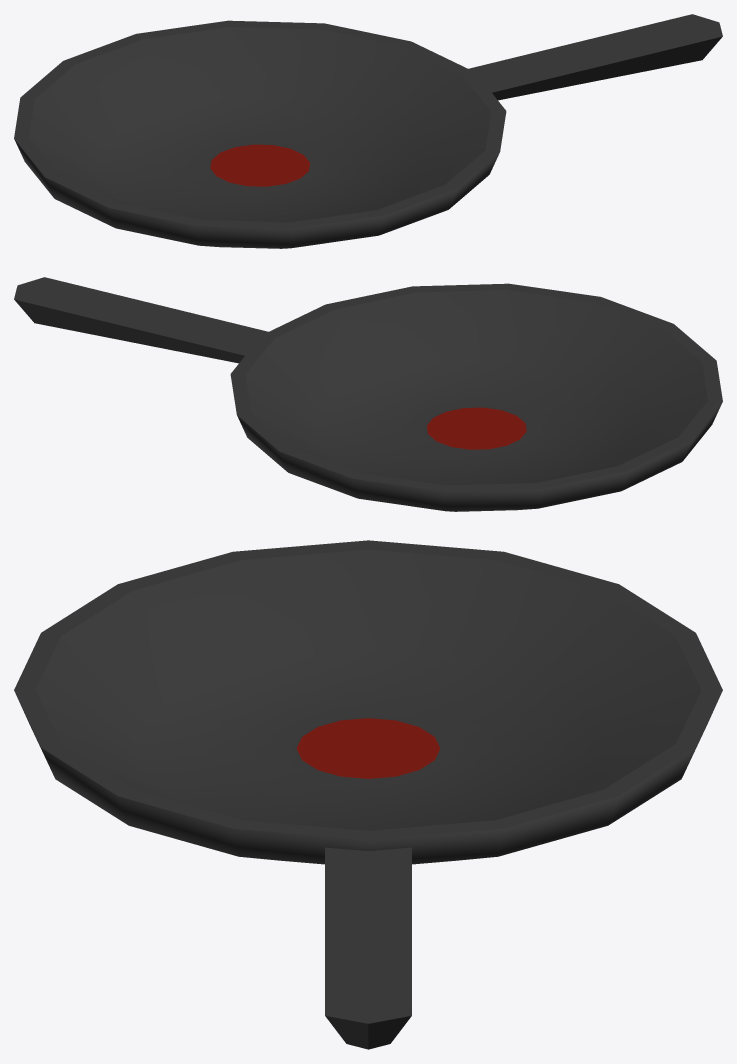
File: pan.glb
3 renders of one model, top to bottom at view 1: azimuth 30°, elevation 25°; view 2: azimuth 150°, elevation 25°; view 3: azimuth 270°, elevation 25°, orthographic. The views are drawn at different scales.
Visible parts, largest first — view 1: Simple Pan; view 2: Simple Pan; view 3: Simple Pan.
Part boxes in pixels (x1,y1,x2,y2): Simple Pan: (14,14,722,248); Simple Pan: (14,277,722,511); Simple Pan: (14,540,722,1049).
Size of the model in its own units: 0.3659 by 0.0292 by 0.2335.
1 material, 1 textured.
